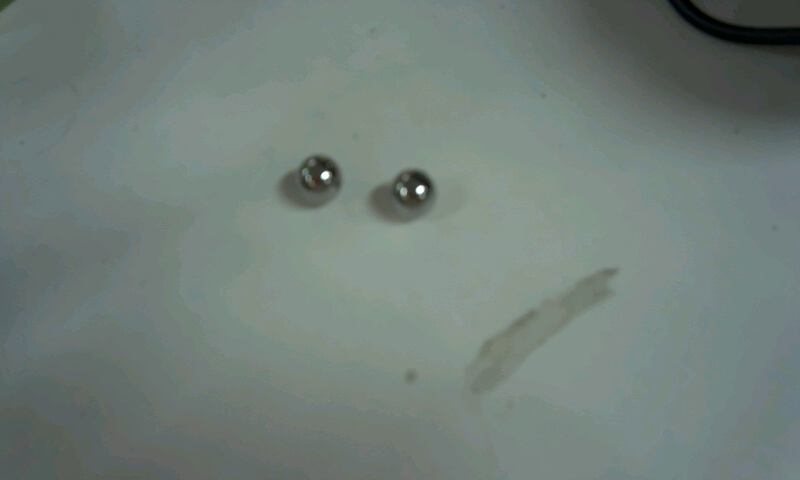steelball: (287, 147, 353, 219), (384, 156, 447, 231)
